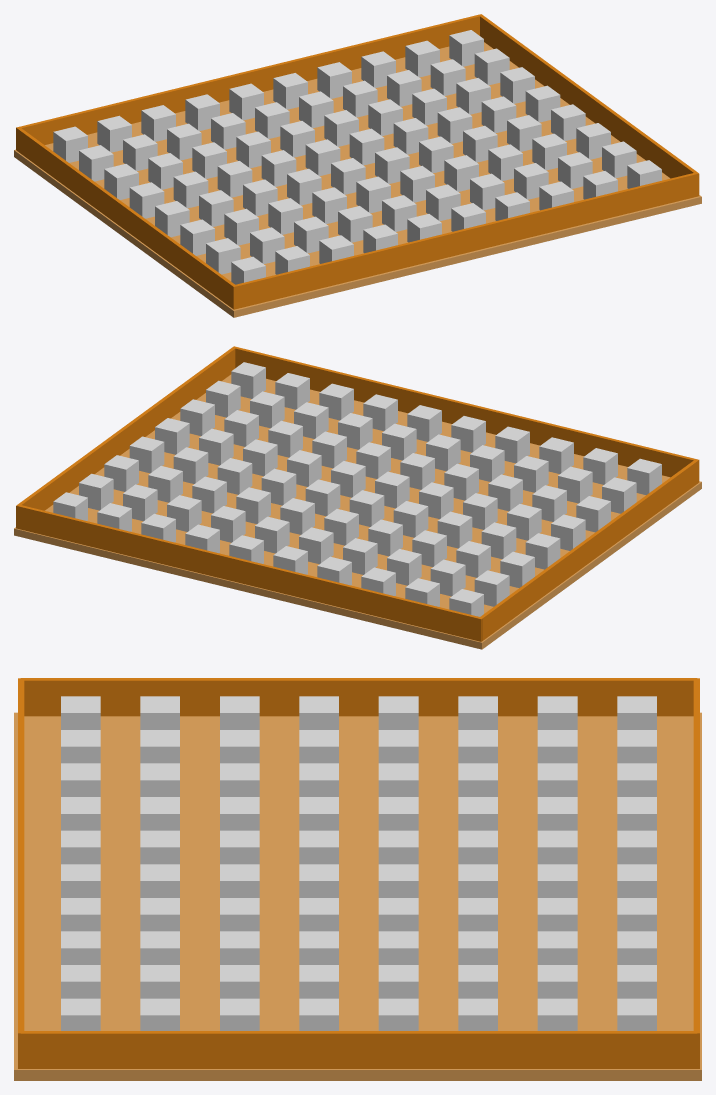
The model's file is bomberlevel3.glb.
3 views of the same model, one above another, from view 1: azimuth 30°, elevation 25°; view 2: azimuth 150°, elevation 25°; view 3: azimuth 270°, elevation 25° (orthographic). The views are drawn at different scales.
Visible parts, largest first — view 1: Floor-col, WallU-col, WallD-col, WallR-col, WallL-col, Cube.041-col, Cube.040-col, Cube.077-col, Cube.081-col, Cube.076-col, Cube.073-col, Cube.028-col (+73 smaller); view 2: Floor-col, WallD-col, WallU-col, WallR-col, WallL-col, Cube.028-col, Cube.030-col, Cube.076-col, Cube.029-col, Cube.027-col, Cube.081-col, Cube.077-col (+73 smaller); view 3: Floor-col, WallL-col, WallR-col, WallU-col, WallD-col, Cube.042-col, Cube.027-col, Cube.047-col, Cube.032-col, Cube.096-col, Cube.091-col, Cube.079-col (+73 smaller).
Boxes of the visible parts, bbox=[...] form: Floor-col: bbox=[14, 42, 701, 317]; WallU-col: bbox=[233, 172, 699, 309]; WallD-col: bbox=[16, 14, 482, 150]; WallR-col: bbox=[17, 128, 235, 308]; WallL-col: bbox=[479, 14, 696, 178]; Cube.041-col: bbox=[474, 48, 509, 85]; Cube.040-col: bbox=[430, 59, 465, 95]; Cube.077-col: bbox=[393, 118, 428, 154]; Cube.081-col: bbox=[525, 85, 560, 122]; Cube.076-col: bbox=[437, 107, 472, 143]; Cube.073-col: bbox=[349, 128, 384, 165]; Cube.028-col: bbox=[261, 150, 296, 186]; Floor-col: bbox=[14, 374, 701, 649]; WallD-col: bbox=[16, 504, 482, 641]; WallU-col: bbox=[233, 346, 699, 482]; WallR-col: bbox=[480, 460, 698, 641]; WallL-col: bbox=[17, 347, 235, 510]; Cube.028-col: bbox=[393, 501, 428, 537]; Cube.030-col: bbox=[437, 511, 472, 548]; Cube.076-col: bbox=[217, 458, 252, 494]; Cube.029-col: bbox=[481, 522, 516, 559]; Cube.027-col: bbox=[349, 490, 384, 526]; Cube.081-col: bbox=[129, 436, 164, 473]; Cube.077-col: bbox=[261, 468, 296, 505]; Floor-col: bbox=[14, 712, 701, 1080]; WallL-col: bbox=[20, 1031, 697, 1068]; WallR-col: bbox=[20, 678, 697, 716]; WallU-col: bbox=[18, 678, 24, 1068]; WallD-col: bbox=[693, 678, 699, 1068]; Cube.042-col: bbox=[537, 830, 577, 864]; Cube.027-col: bbox=[378, 830, 418, 864]; Cube.047-col: bbox=[617, 830, 656, 864]; Cube.032-col: bbox=[458, 830, 497, 864]; Cube.096-col: bbox=[61, 830, 100, 864]; Cube.091-col: bbox=[140, 830, 179, 864]; Cube.079-col: bbox=[220, 830, 259, 864].
Size of the model in its own units: 42.56 by 2.57 by 34.62.
